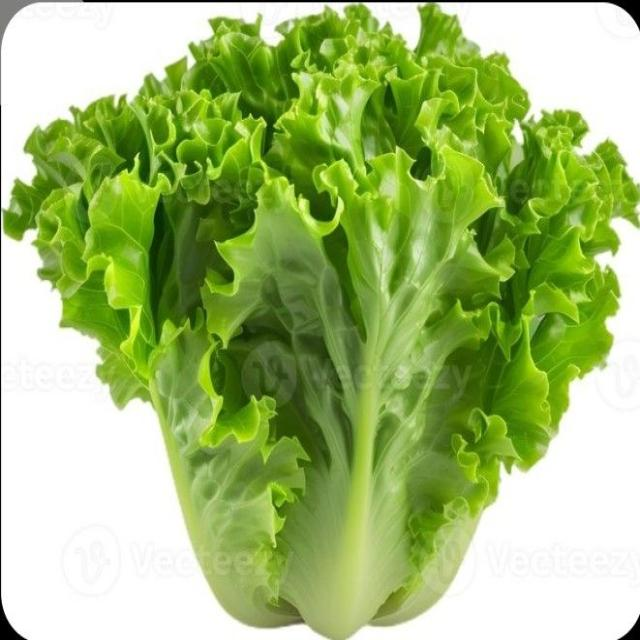lettuce: (4, 6, 639, 638)
